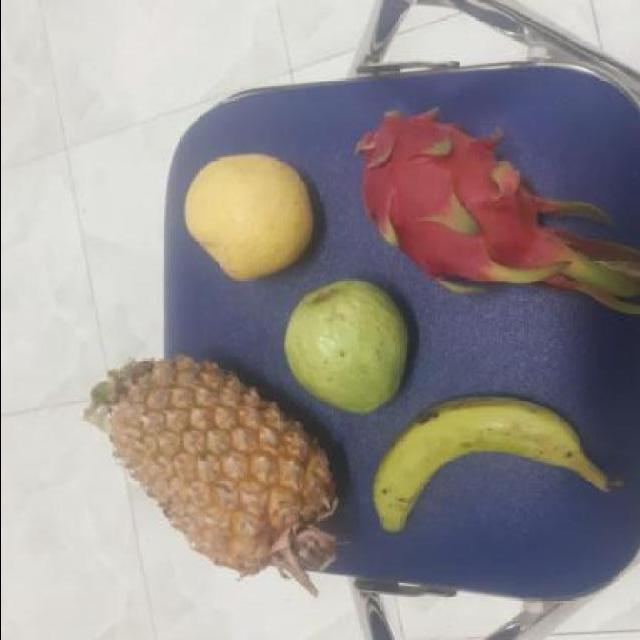banana: (375, 393, 592, 532)
dragon fruit: (361, 98, 570, 295)
guava: (274, 273, 414, 415)
pear: (178, 145, 315, 282)
pineapple: (94, 352, 341, 583)
